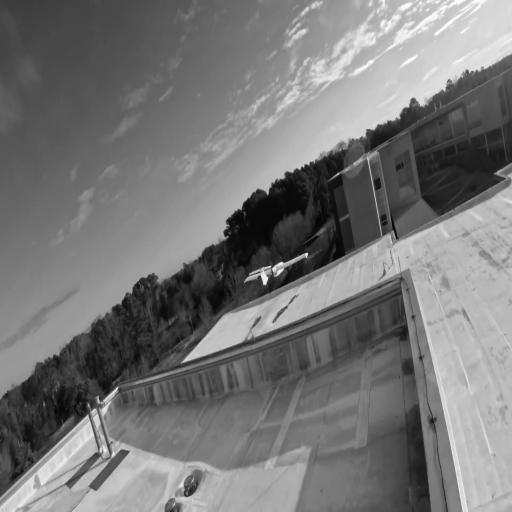uav: (241, 247, 311, 293)
